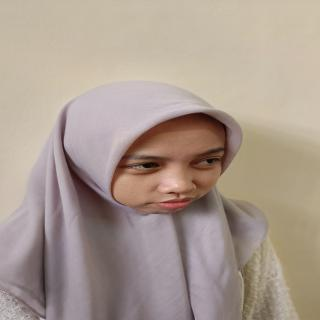Takut: (101, 112, 235, 221)
